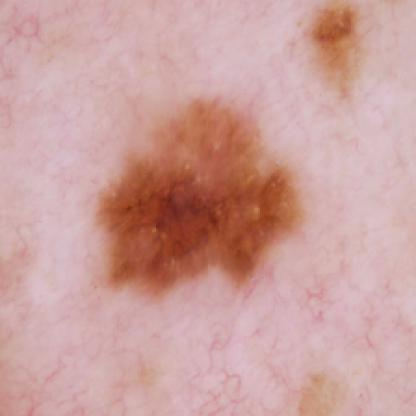Skin_Cancer-Malignant: (92, 99, 310, 299)
